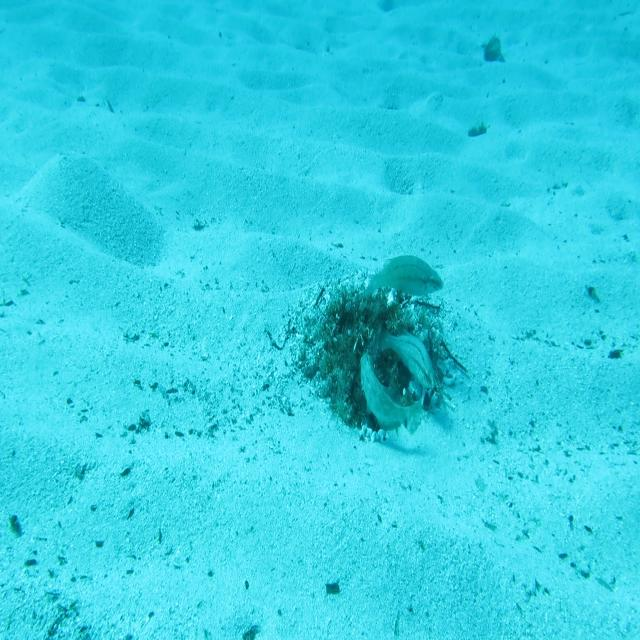DAN_CIRC: (359, 355, 424, 436)
core_nest: (347, 305, 388, 340)
female: (374, 324, 436, 394), (365, 252, 444, 302)
nest: (286, 264, 458, 447)
vegetation: (480, 34, 507, 63), (467, 120, 488, 136), (325, 578, 341, 596)
